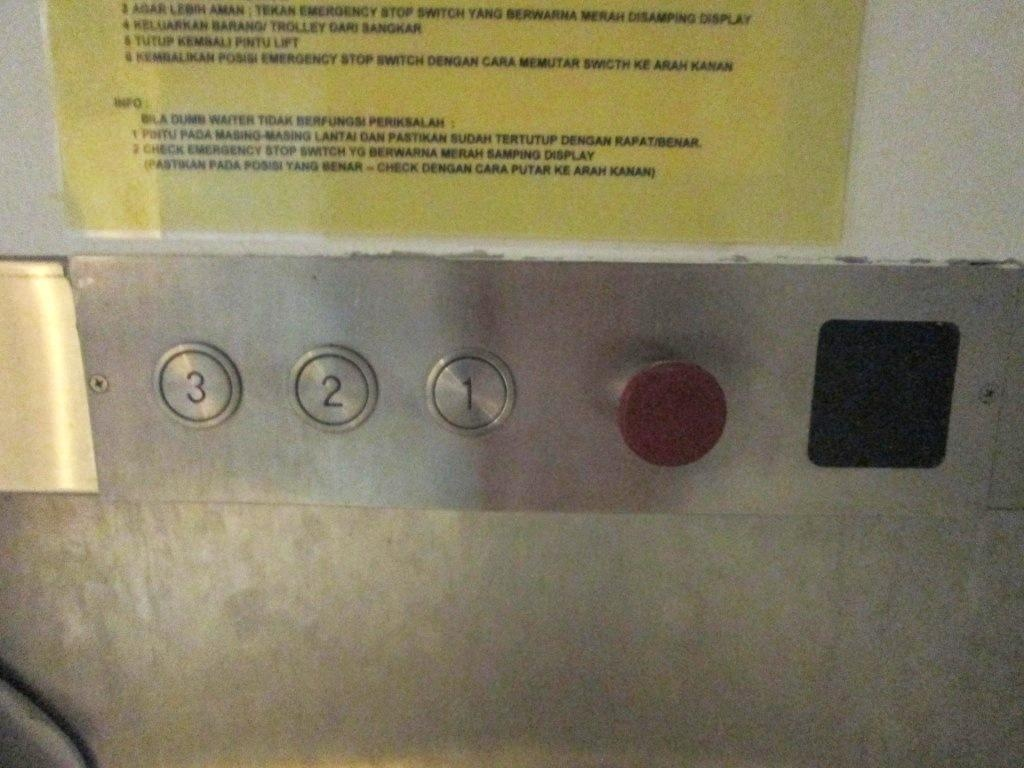1: (425, 348, 518, 438)
2: (287, 344, 378, 433)
3: (153, 340, 241, 428)
empty: (613, 354, 728, 471)
led: (808, 319, 961, 469)
